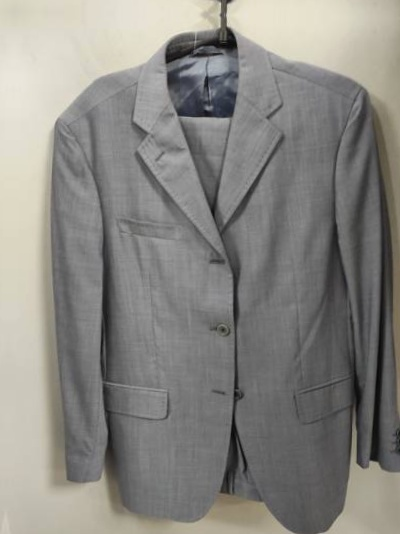Blazer: (33, 34, 400, 526)
